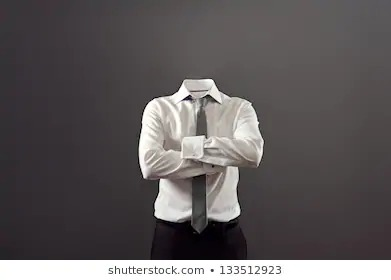F_shirt: (135, 78, 265, 223)
F_tie: (192, 98, 210, 221)
